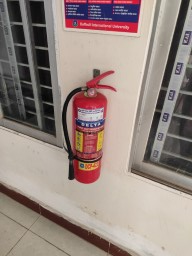fire_extinguisher: (52, 100, 138, 173)
